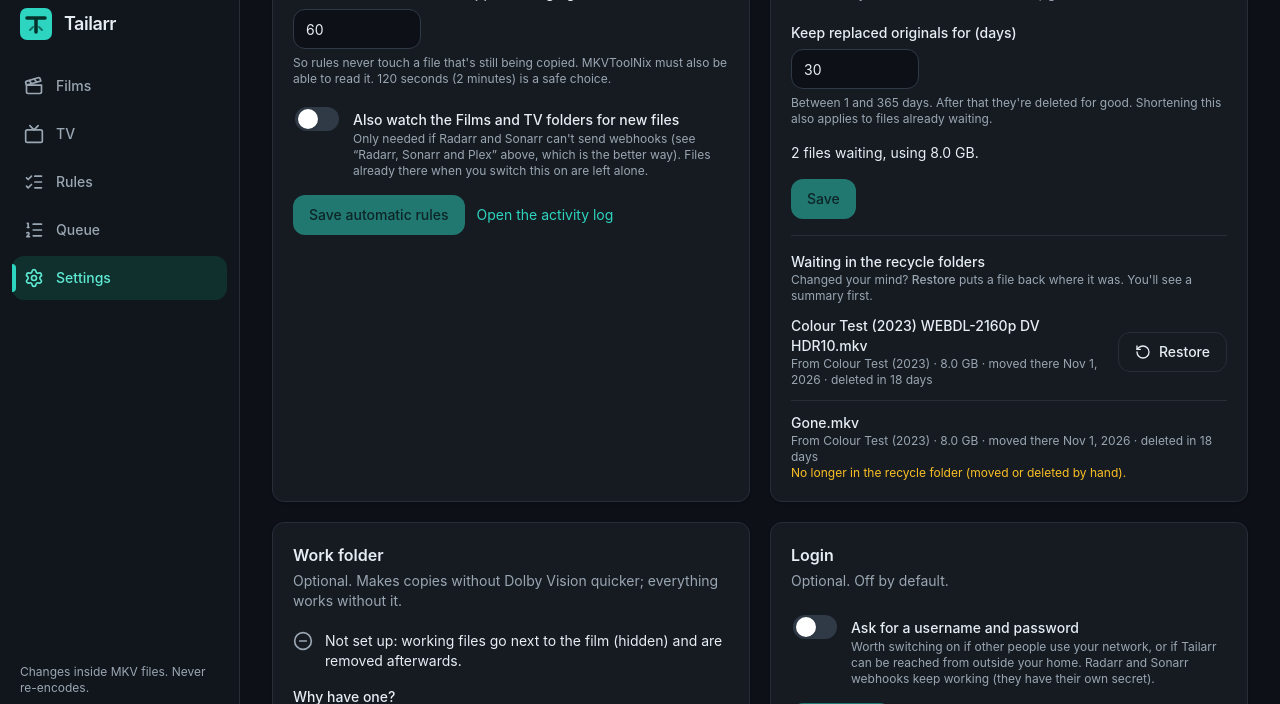
Test: restore from the recycle folder › lists waiting files and puts one back after a summary
(page scrolled)
Expected: the list item with test id "recycled-3" shows "From Colour Test (2023) · 8.0 GB", [791,316,1227,401]
Expected: the list item with test id "recycled-3" shows "deleted in 18 days", [831,372,933,387]
Click the button "Restore" at (1172, 352), box [1118,332,1227,372]
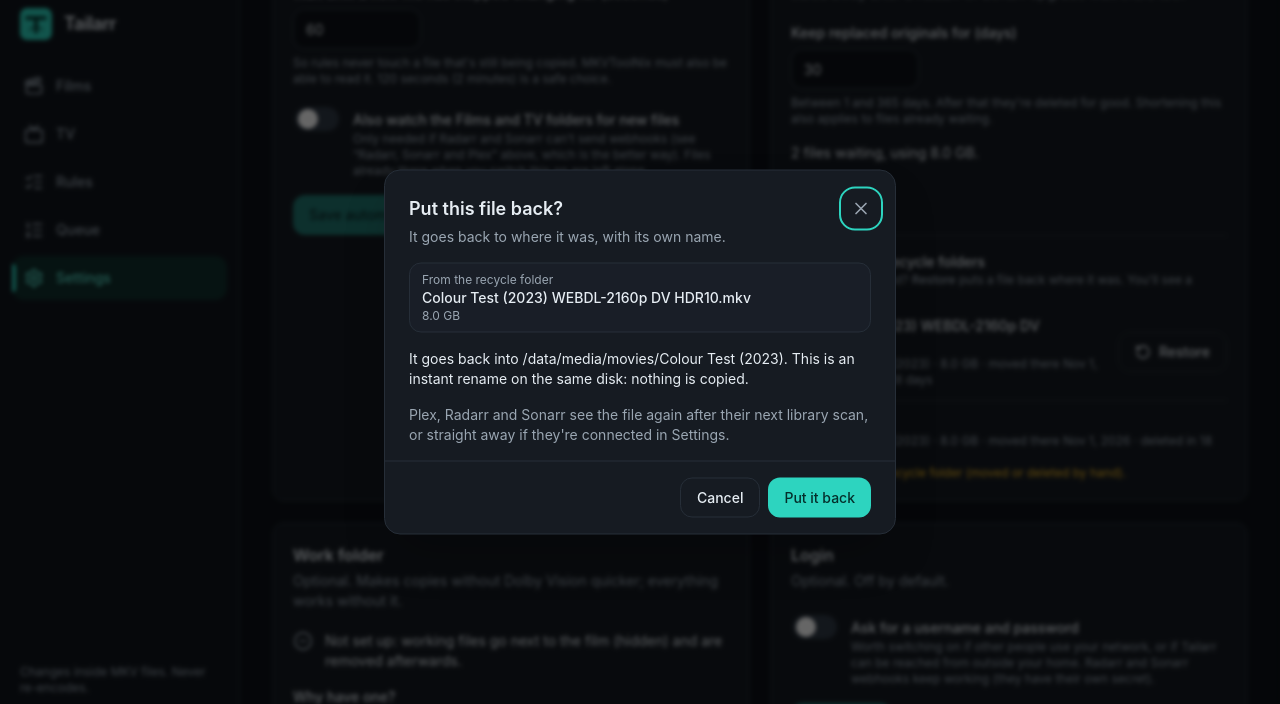
Now the text with test id "restore-file" reads "Colour Test (2023) WEBDL-2160p DV HDR10.mkv", box [422,288,751,306]
Now the dialog "Put this file back?" shows "/data/media/movies/Colour Test (2023)", box [523,350,784,366]
Click the button "Put it back" at (820, 498), box [768,478,871,518]
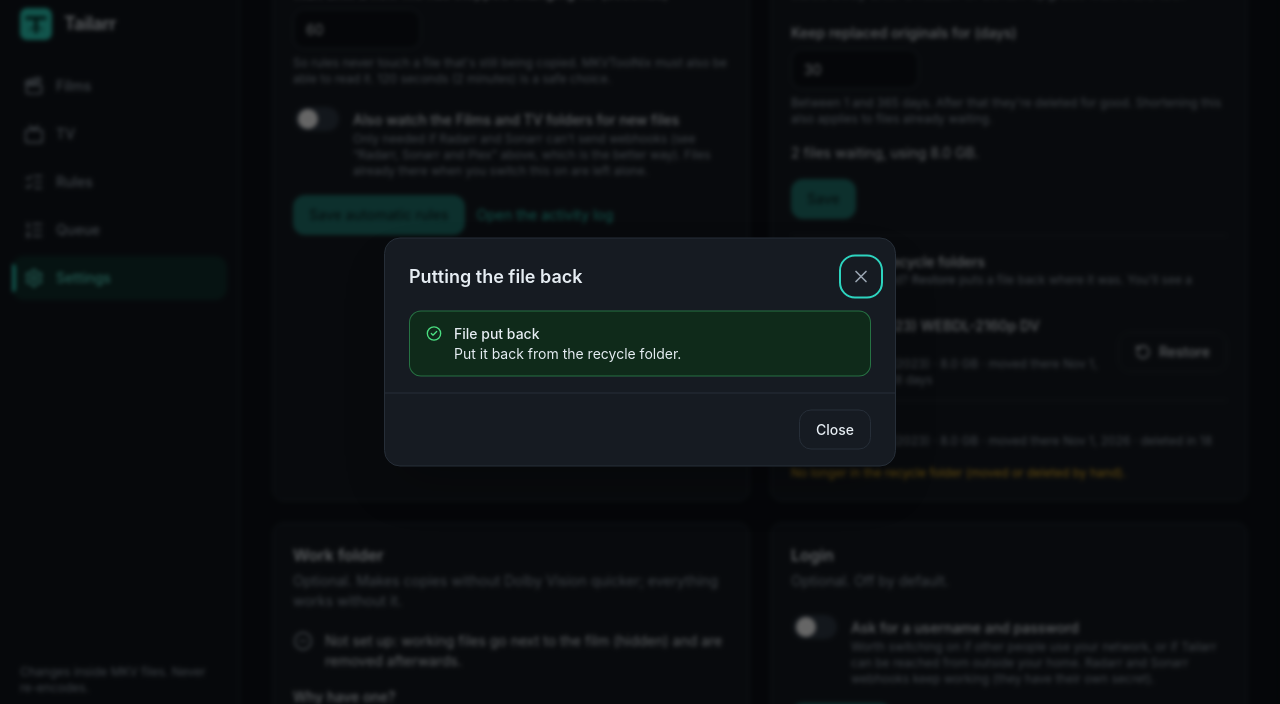
Now the text "File put back" is shown, box [454,324,540,342]
